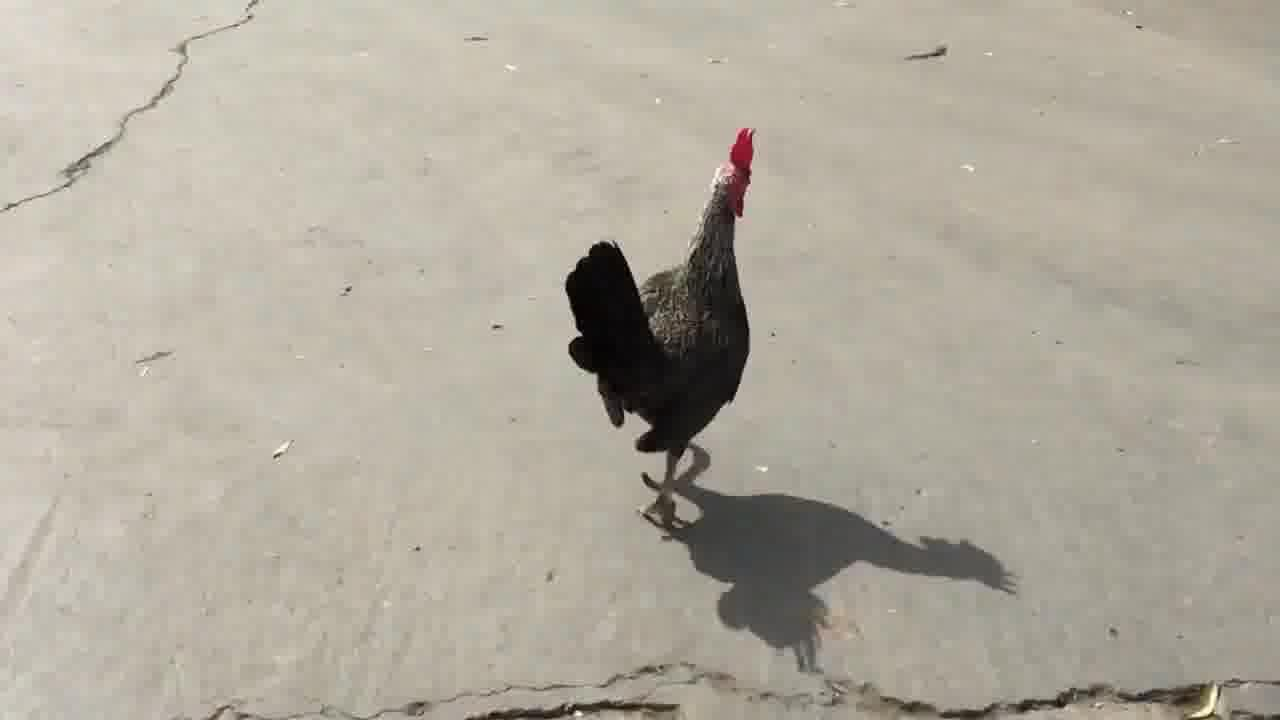Normal: (564, 118, 768, 506)
